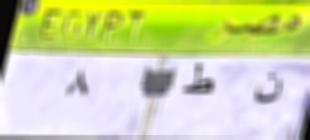8: (65, 65, 91, 104)
Taa: (182, 60, 215, 104)
noon: (250, 68, 287, 112)
